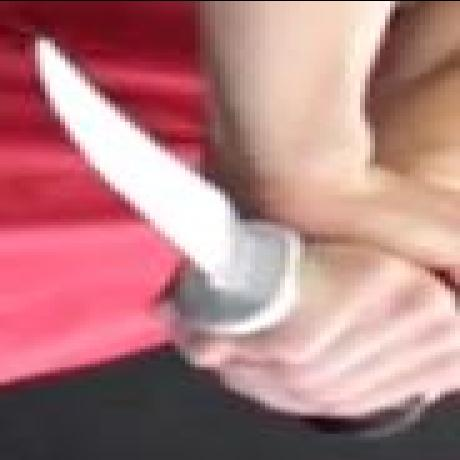weapon: (31, 36, 304, 334)
